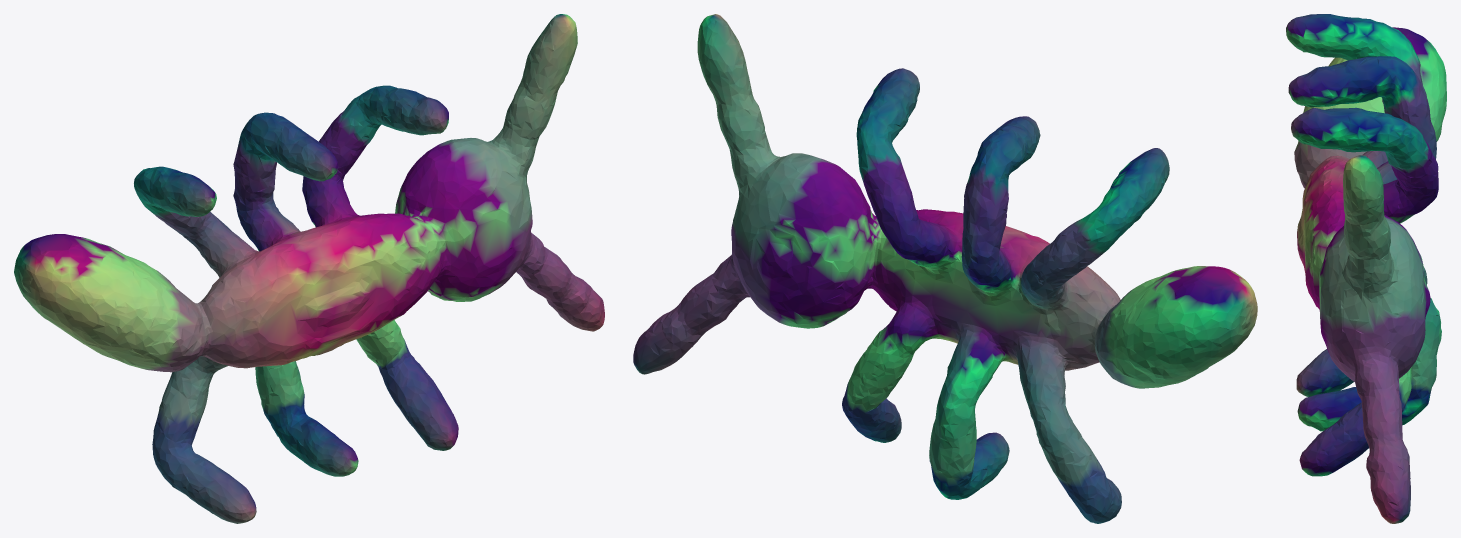
File: ant-11.off.obj
3 views of the same model, side by side, from view 1: azimuth 30°, elevation 25°; view 2: azimuth 150°, elevation 25°; view 3: azimuth 270°, elevation 25° (orthographic). The views are drawn at different scales.
Size of the model in its own units: 1.6 by 1.07 by 0.3791.
